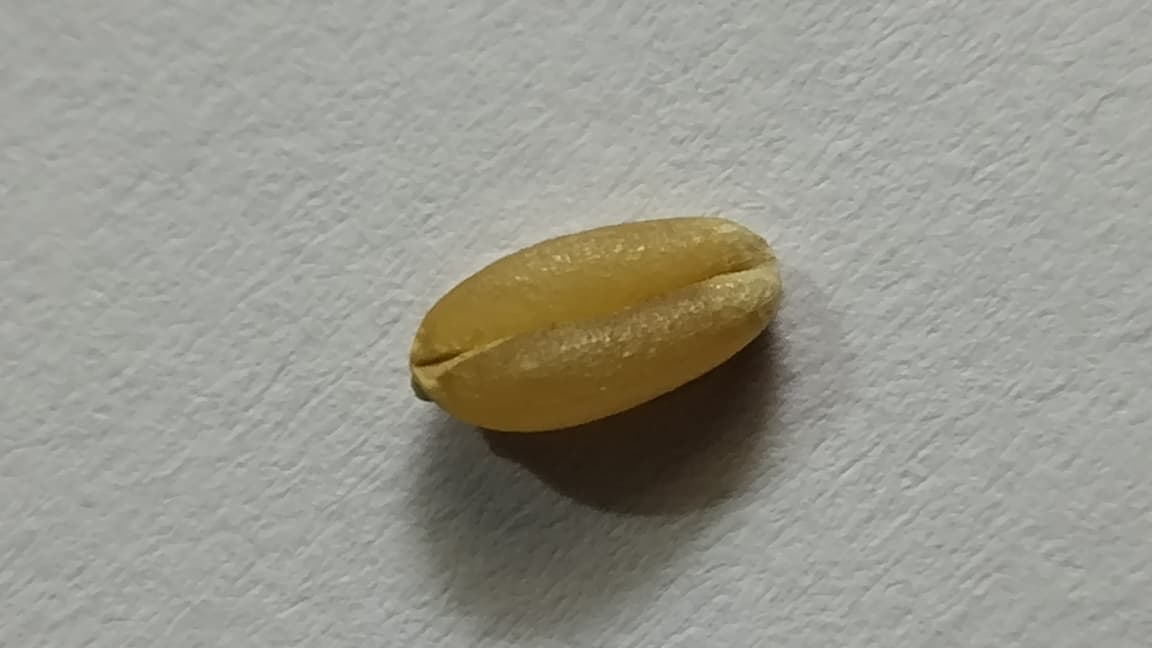healthy: (411, 215, 780, 430)
